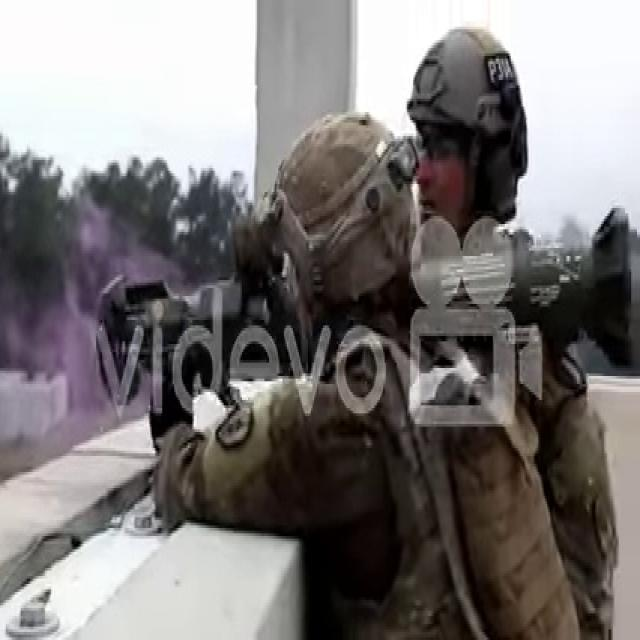bazooka: (91, 262, 317, 461)
